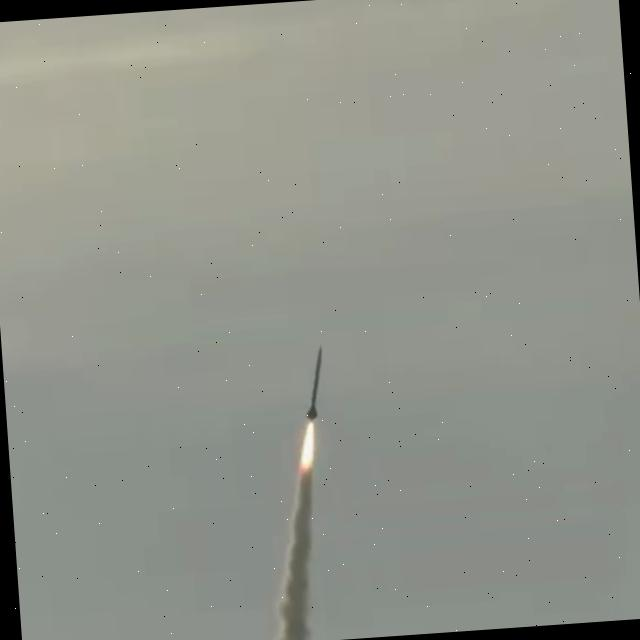rocket: (300, 346, 327, 418)
smoke_trail_with_rocket: (273, 348, 322, 640)
